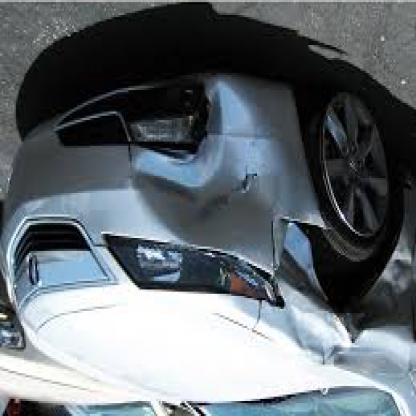dent: (212, 80, 270, 220), (288, 306, 406, 367)
